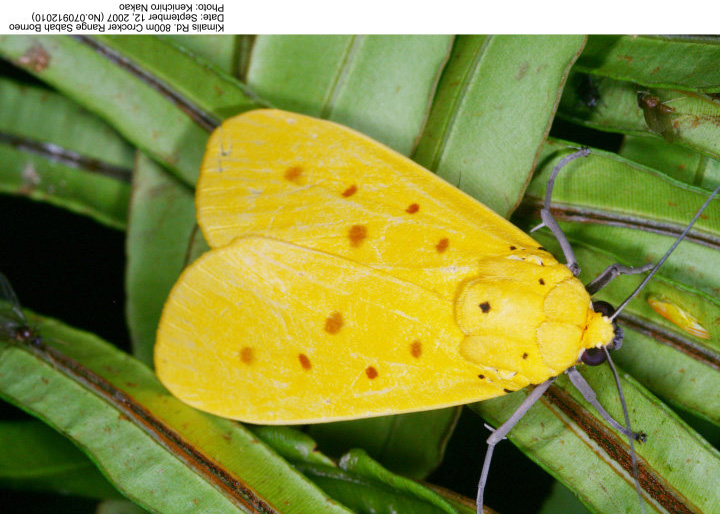Agape chloropyga: (148, 93, 716, 512)
moth: (150, 95, 718, 514)
